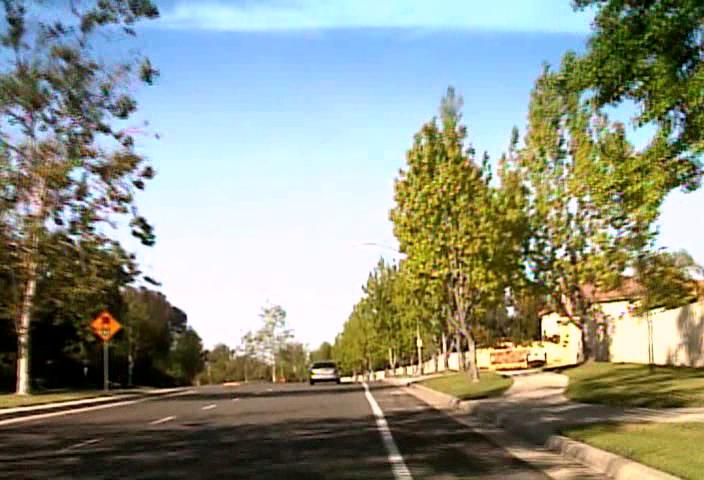signalAhead: (89, 309, 122, 342)
